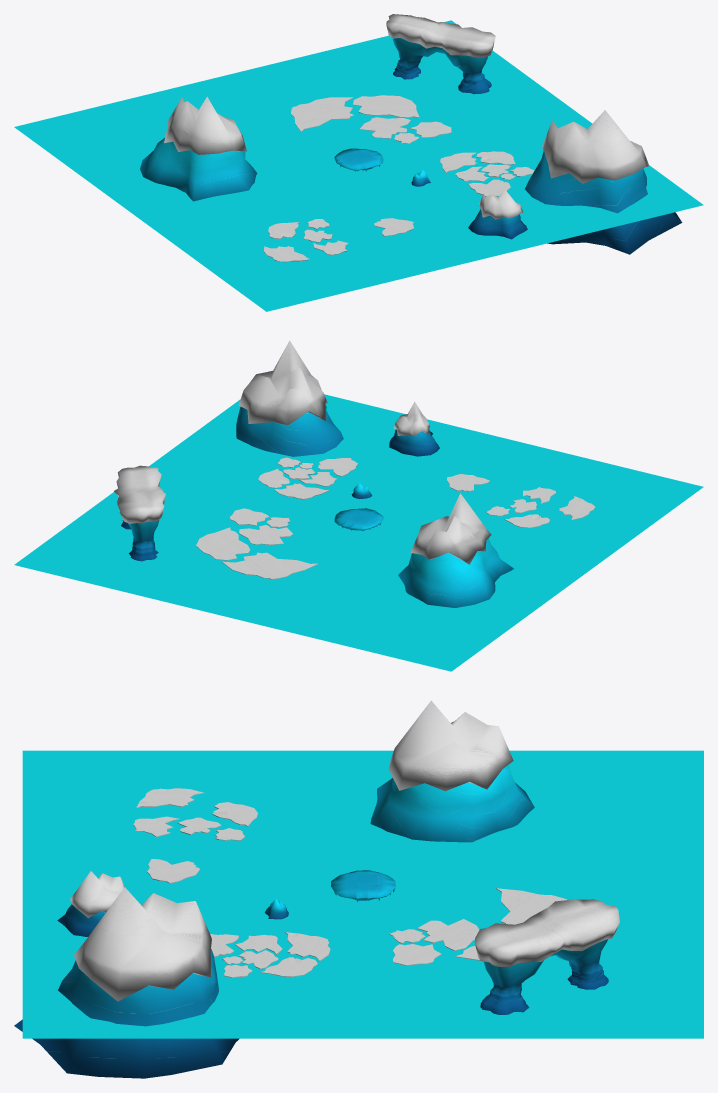
Rendered from Encrenca_no_Titanic.fbx.
The picture shows the model from 3 angles, top to bottom: view 1: azimuth 30°, elevation 25°; view 2: azimuth 150°, elevation 25°; view 3: azimuth 270°, elevation 25°; orthographic projection. The views are drawn at different scales.
Visible parts, largest first — view 1: agua, iceberg.002, neve iceberg.002, iceberg, neve iceberg, neve iceberg_buraco, iceberg_buraco, crosta_gelo_7.001, crosta_gelo_6.002, iceberg.001, neve iceberg.001, cobertura (+6 smaller); view 2: agua, iceberg, neve iceberg.002, iceberg.002, neve iceberg, neve iceberg_buraco, crosta_gelo_7.001, crosta_gelo_6.002, iceberg_buraco, iceberg.001, cobertura, neve iceberg.001 (+1 smaller); view 3: agua, iceberg.002, neve iceberg.002, iceberg, neve iceberg, neve iceberg_buraco, iceberg_buraco, neve iceberg.001, cobertura, crosta_gelo_7.001, crosta_gelo_3.002, crosta_gelo_5.001 (+8 smaller).
Boxes of the visible parts, x1=… form: agua: x1=14, y1=20, x2=703, y2=311; iceberg.002: x1=525, y1=151, x2=682, y2=254; neve iceberg.002: x1=542, y1=110, x2=649, y2=183; iceberg: x1=140, y1=138, x2=257, y2=201; neve iceberg: x1=164, y1=96, x2=246, y2=154; neve iceberg_buraco: x1=386, y1=14, x2=495, y2=57; iceberg_buraco: x1=392, y1=38, x2=491, y2=94; crosta_gelo_7.001: x1=291, y1=97, x2=354, y2=131; crosta_gelo_6.002: x1=353, y1=95, x2=419, y2=117; iceberg.001: x1=468, y1=209, x2=527, y2=239; neve iceberg.001: x1=479, y1=189, x2=523, y2=219; cobertura: x1=334, y1=148, x2=383, y2=172; agua: x1=14, y1=394, x2=703, y2=671; iceberg: x1=398, y1=538, x2=513, y2=607; neve iceberg.002: x1=238, y1=340, x2=327, y2=425; iceberg.002: x1=236, y1=404, x2=343, y2=456; neve iceberg: x1=410, y1=493, x2=491, y2=564; neve iceberg_buraco: x1=114, y1=465, x2=165, y2=523; crosta_gelo_7.001: x1=222, y1=552, x2=317, y2=579; crosta_gelo_6.002: x1=196, y1=527, x2=250, y2=560; iceberg_buraco: x1=121, y1=520, x2=159, y2=561; iceberg.001: x1=389, y1=429, x2=439, y2=456; cobertura: x1=334, y1=508, x2=383, y2=531; neve iceberg.001: x1=394, y1=401, x2=429, y2=436; agua: x1=22, y1=750, x2=703, y2=1038; iceberg.002: x1=14, y1=948, x2=239, y2=1078; neve iceberg.002: x1=74, y1=887, x2=211, y2=1001; iceberg: x1=370, y1=765, x2=534, y2=842; neve iceberg: x1=388, y1=700, x2=513, y2=791; neve iceberg_buraco: x1=474, y1=899, x2=619, y2=966; iceberg_buraco: x1=480, y1=939, x2=608, y2=1014; neve iceberg.001: x1=70, y1=871, x2=124, y2=917; cobertura: x1=331, y1=870, x2=395, y2=903; crosta_gelo_7.001: x1=496, y1=888, x2=567, y2=924; crosta_gelo_3.002: x1=417, y1=919, x2=479, y2=950; crosta_gelo_5.001: x1=147, y1=859, x2=200, y2=883.
Size of the model in its own units: 8359 by 2038 by 8411.
